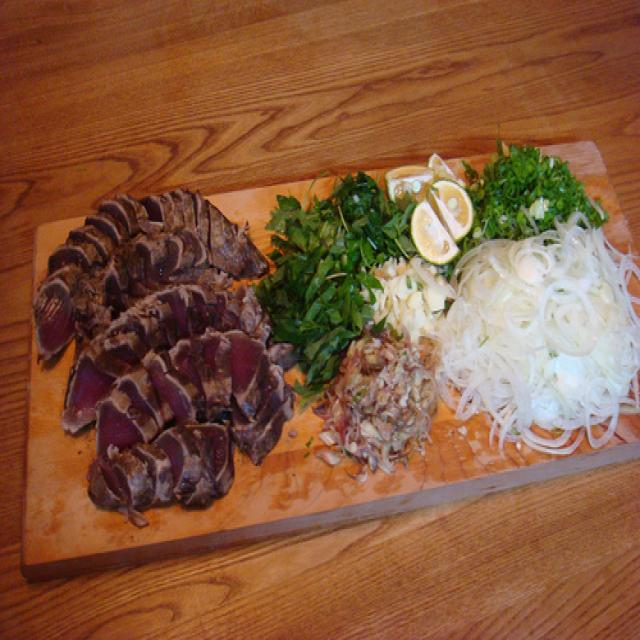熟制海鲜: (0, 179, 311, 538)
